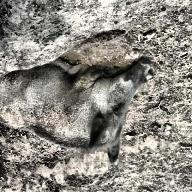boar: (0, 46, 167, 157)
